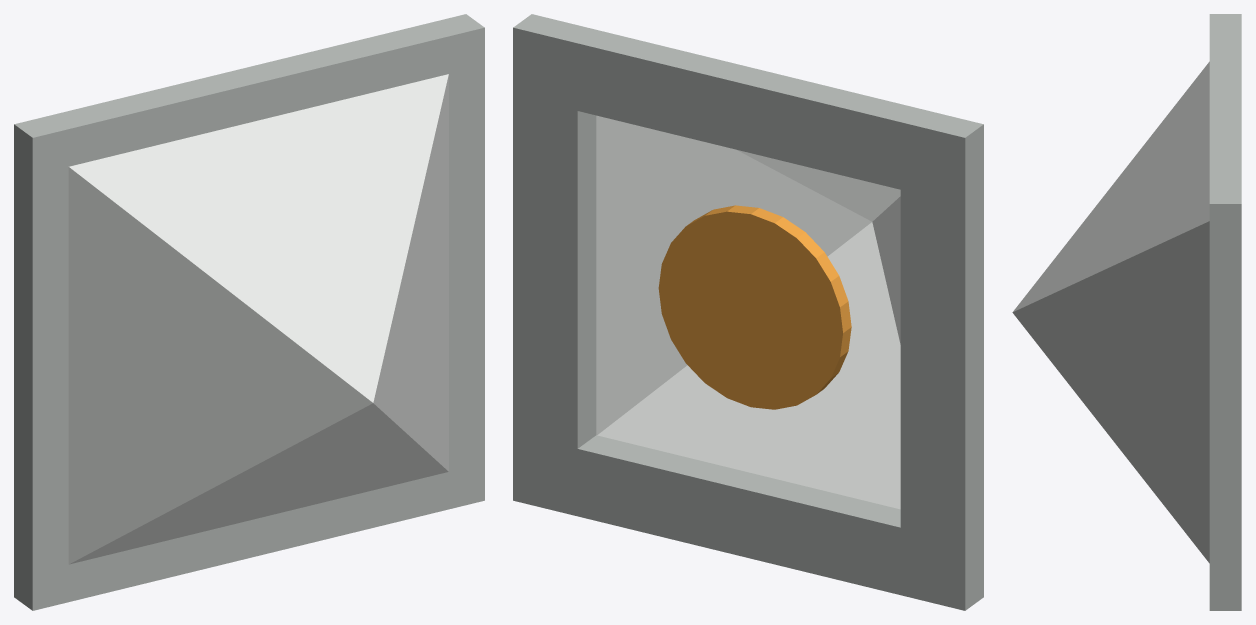
3 views of the same model, side by side, from view 1: azimuth 30°, elevation 25°; view 2: azimuth 150°, elevation 25°; view 3: azimuth 270°, elevation 25° (orthographic). The views are drawn at different scales.
Parts seen in each view (by area): view 1: Part_Cup, Part_Lip; view 2: Part_Lip, Part_Cup, Part_Pad; view 3: Part_Cup, Part_Lip.
Part boxes in pixels (<box>): Part_Cup: <box>68,74,448,564</box>; Part_Lip: <box>14,14,484,610</box>; Part_Lip: <box>513,14,983,610</box>; Part_Cup: <box>596,115,900,509</box>; Part_Pad: <box>658,205,851,409</box>; Part_Cup: <box>1012,61,1209,563</box>; Part_Lip: <box>1209,14,1241,610</box>.
Size of the model in its own units: 0.98 by 0.98 by 0.5.
